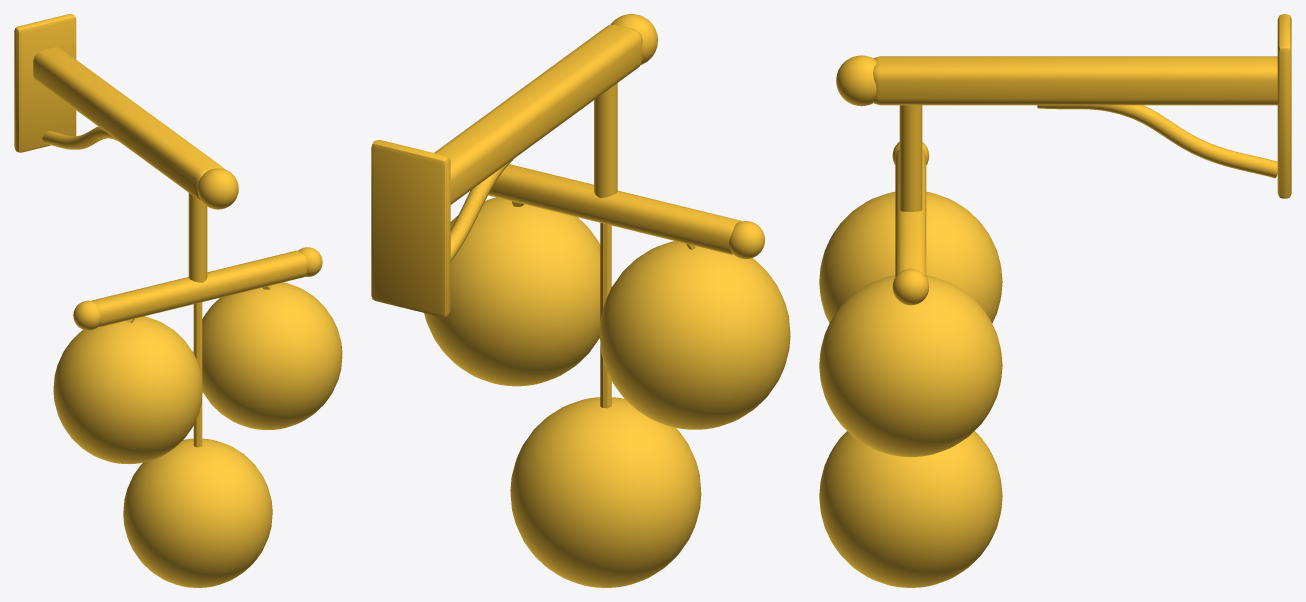
The model's file is PropPawnBalls.fbx.
3 renders of one model, left to right at view 1: azimuth 30°, elevation 25°; view 2: azimuth 150°, elevation 25°; view 3: azimuth 270°, elevation 25°, orthographic. The views are drawn at different scales.
Parts seen in each view (by area): view 1: Balls, Gold; view 2: Balls, Gold; view 3: Balls, Gold.
Boxes of the visible parts, x1,y1,x2,y2 form: Balls: (53,282,342,587); Gold: (14,14,322,447); Balls: (424,197,790,587); Gold: (371,14,764,408); Balls: (819,191,1002,587); Gold: (836,14,1291,305).
Size of the model in its own units: 270 by 430 by 335.
